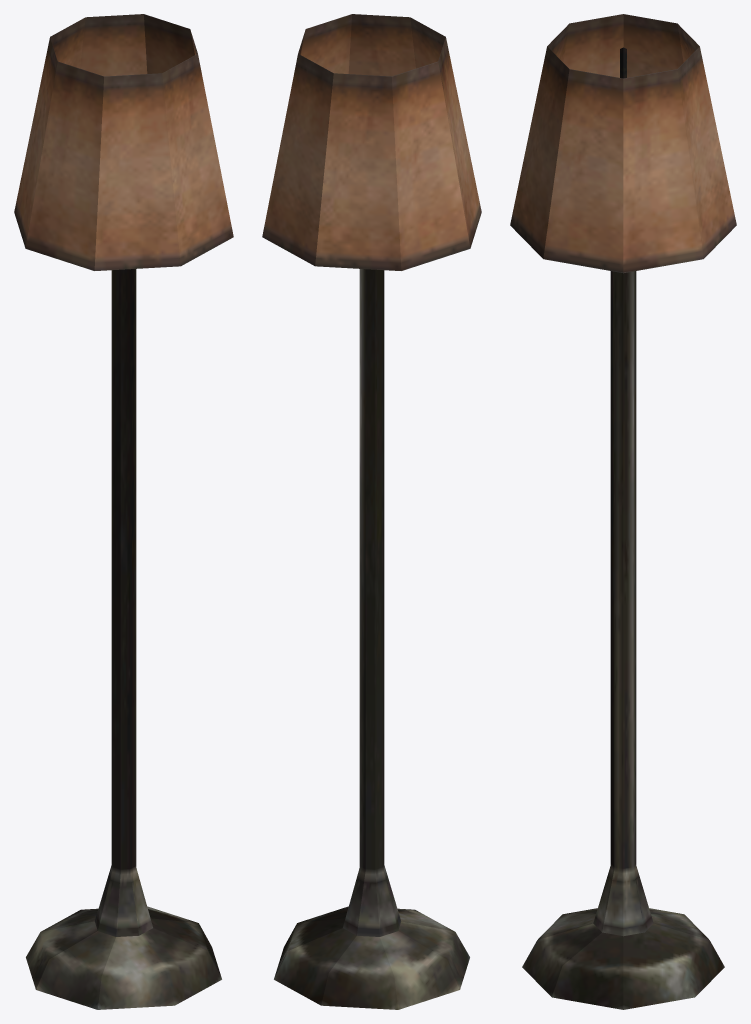
The model's file is floorshade02.fbx.
3 renders of one model, left to right at view 1: azimuth 30°, elevation 25°; view 2: azimuth 150°, elevation 25°; view 3: azimuth 270°, elevation 25°, orthographic.
Parts seen in each view (by area): view 1: mesh_3, mesh_0, mesh_4; view 2: mesh_3, mesh_0, mesh_4; view 3: mesh_3, mesh_0, mesh_4.
Boxes of the visible parts, left/top/right/bottom form: mesh_3: left=14, top=14, right=233, bottom=270; mesh_0: left=26, top=269, right=221, bottom=1009; mesh_4: left=15, top=16, right=230, bottom=270; mesh_3: left=262, top=14, right=481, bottom=270; mesh_0: left=274, top=269, right=469, bottom=1009; mesh_4: left=262, top=15, right=479, bottom=270; mesh_3: left=510, top=14, right=736, bottom=273; mesh_0: left=522, top=271, right=724, bottom=1009; mesh_4: left=511, top=17, right=735, bottom=271.
Bounding box in the file's own units: 40.18 × 180 × 40.18.
1 material, 1 textured.
